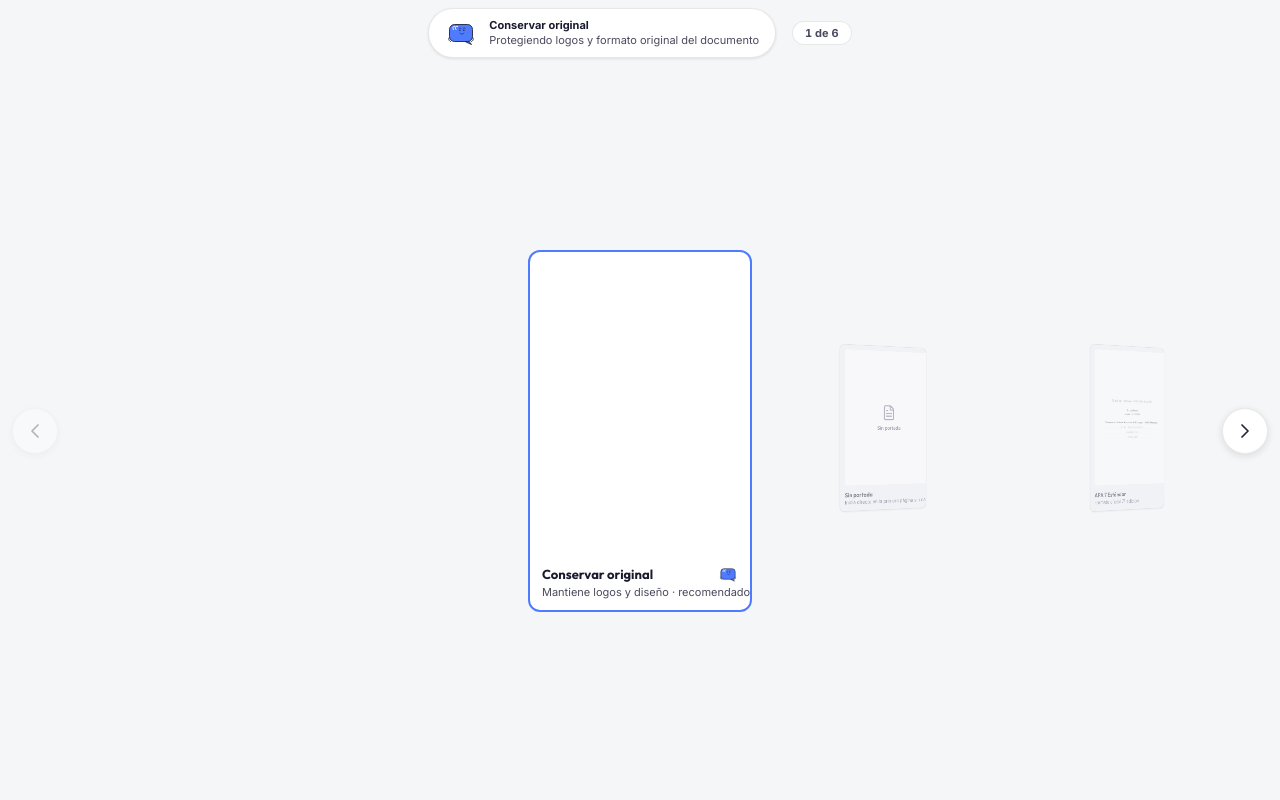
Scenario: carrusel de portada › la hoja de datos aparece al elegir un diseno, con solo los datos
Click the button "APA 7 Estándar Formato oficial 7ª edición" at (1127, 498), box x1=1095 y1=489 x2=1160 y2=506
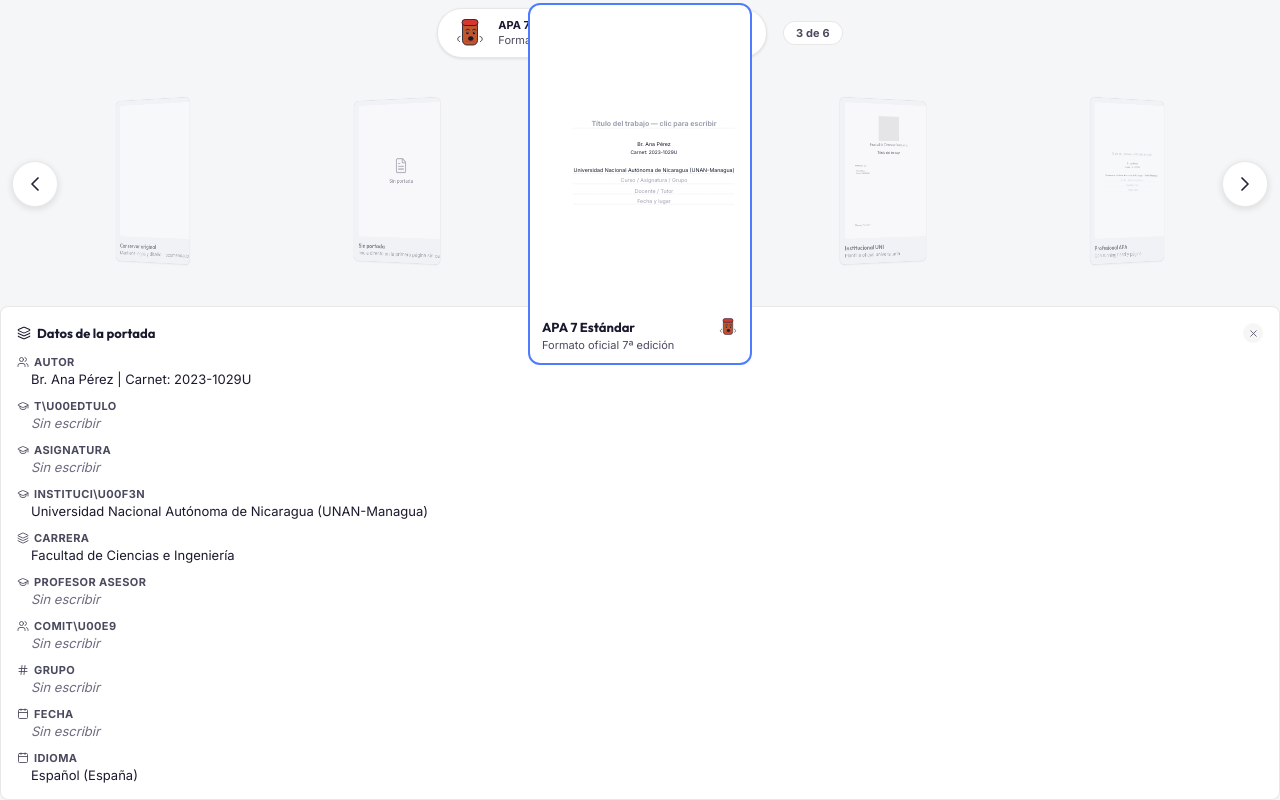
Expected: the element with test id "hoja-datos" does not show "APA 7 Estándar"
Result: the element with test id "hoja-datos" shows "Br. Ana Pérez" at x1=31 y1=371 x2=251 y2=387
